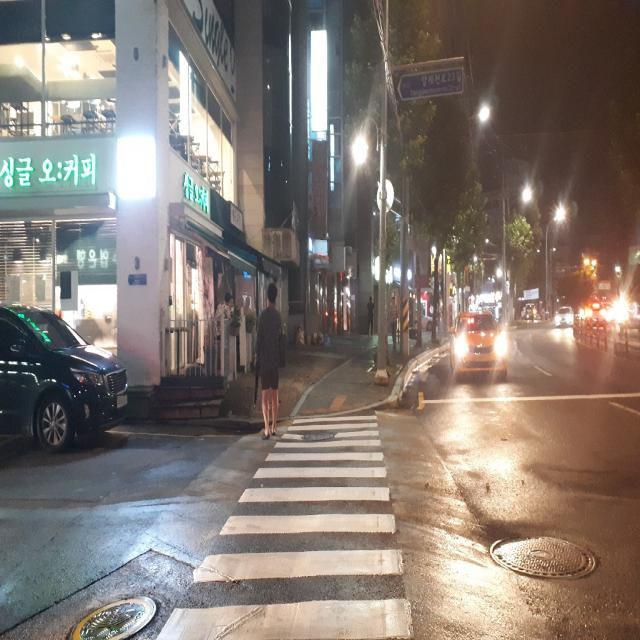횡단보도: (154, 409, 416, 640)
